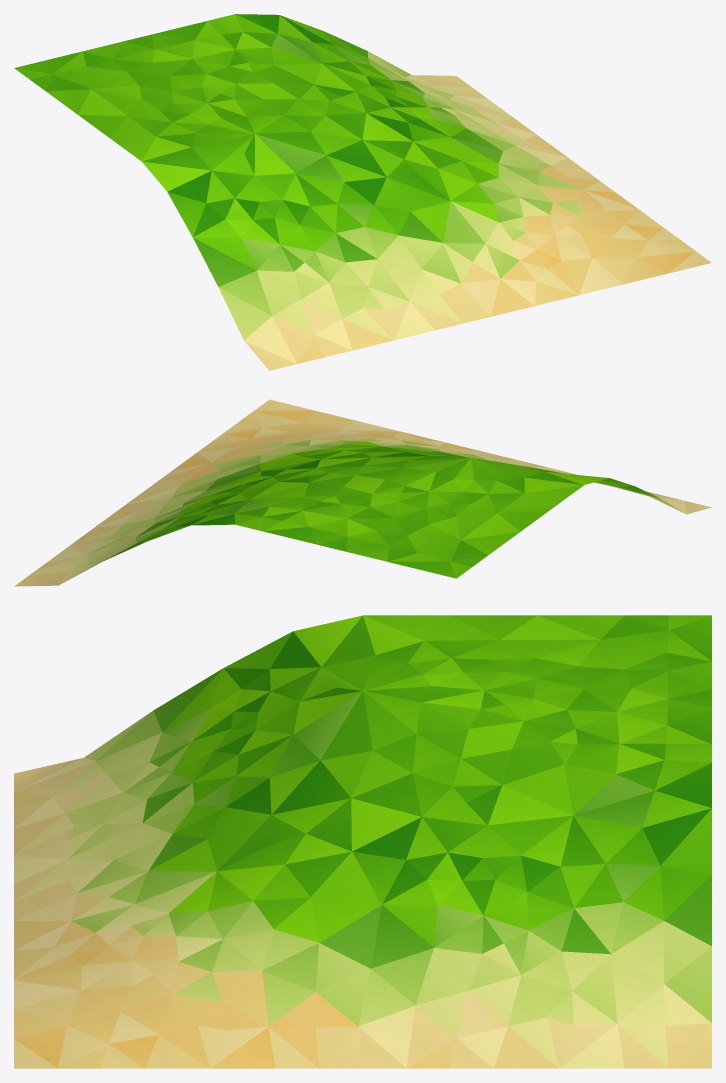
The model's file is GL-Terrain-part-04.fbx.
3 renders of one model, top to bottom at view 1: azimuth 30°, elevation 25°; view 2: azimuth 150°, elevation 25°; view 3: azimuth 270°, elevation 25°, orthographic. The views are drawn at different scales.
Visible parts, largest first — view 1: GL-Terrain-part-04; view 2: GL-Terrain-part-04; view 3: GL-Terrain-part-04.
Boxes of the visible parts, x1,y1,x2,y2 form: GL-Terrain-part-04: [14, 14, 711, 370]; GL-Terrain-part-04: [14, 399, 711, 586]; GL-Terrain-part-04: [14, 615, 711, 1068].
Bounding box in the file's own units: 12 × 3 × 12.
